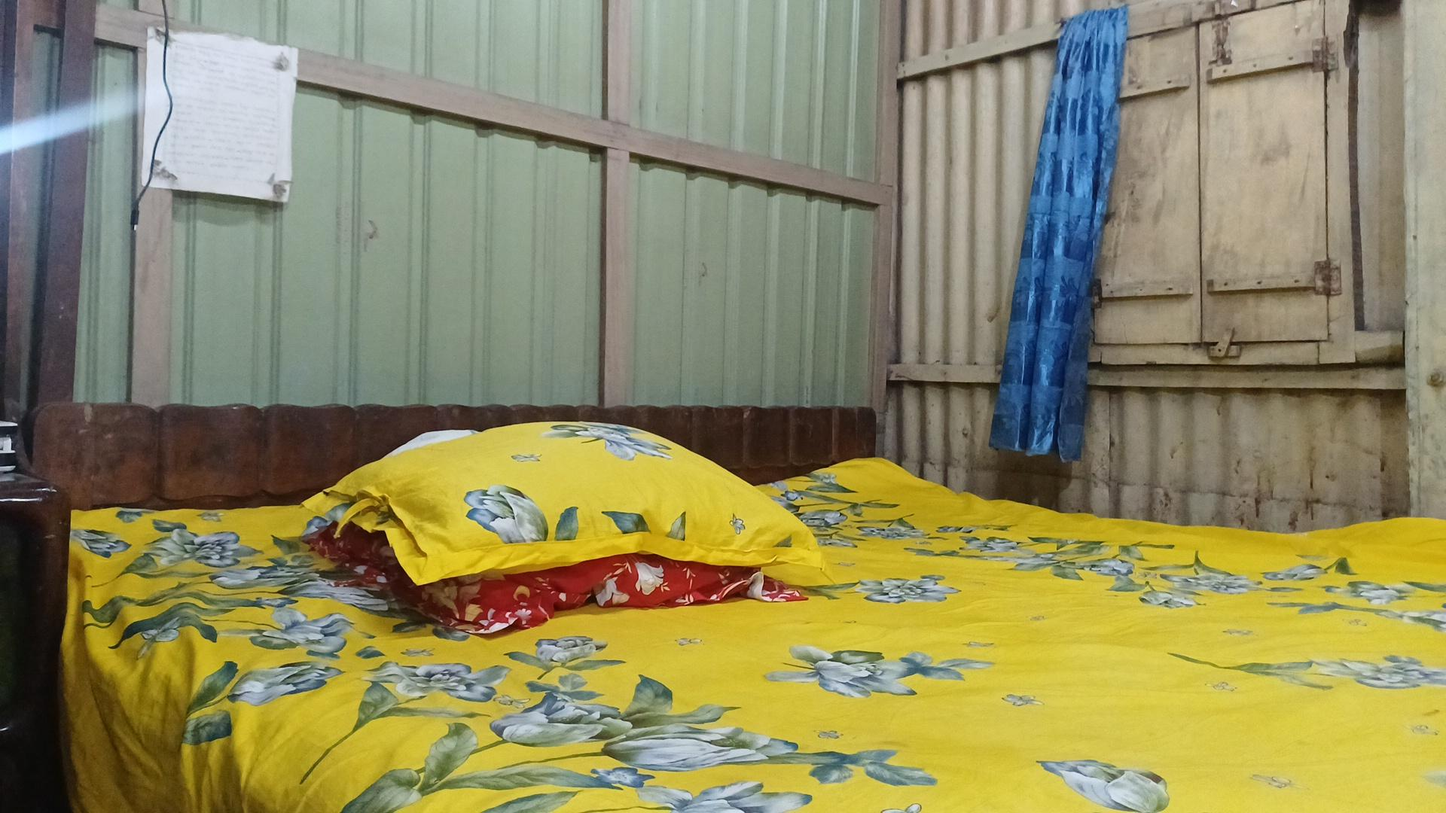Pillow: (291, 432, 812, 627)
Window: (1032, 3, 1374, 383)
